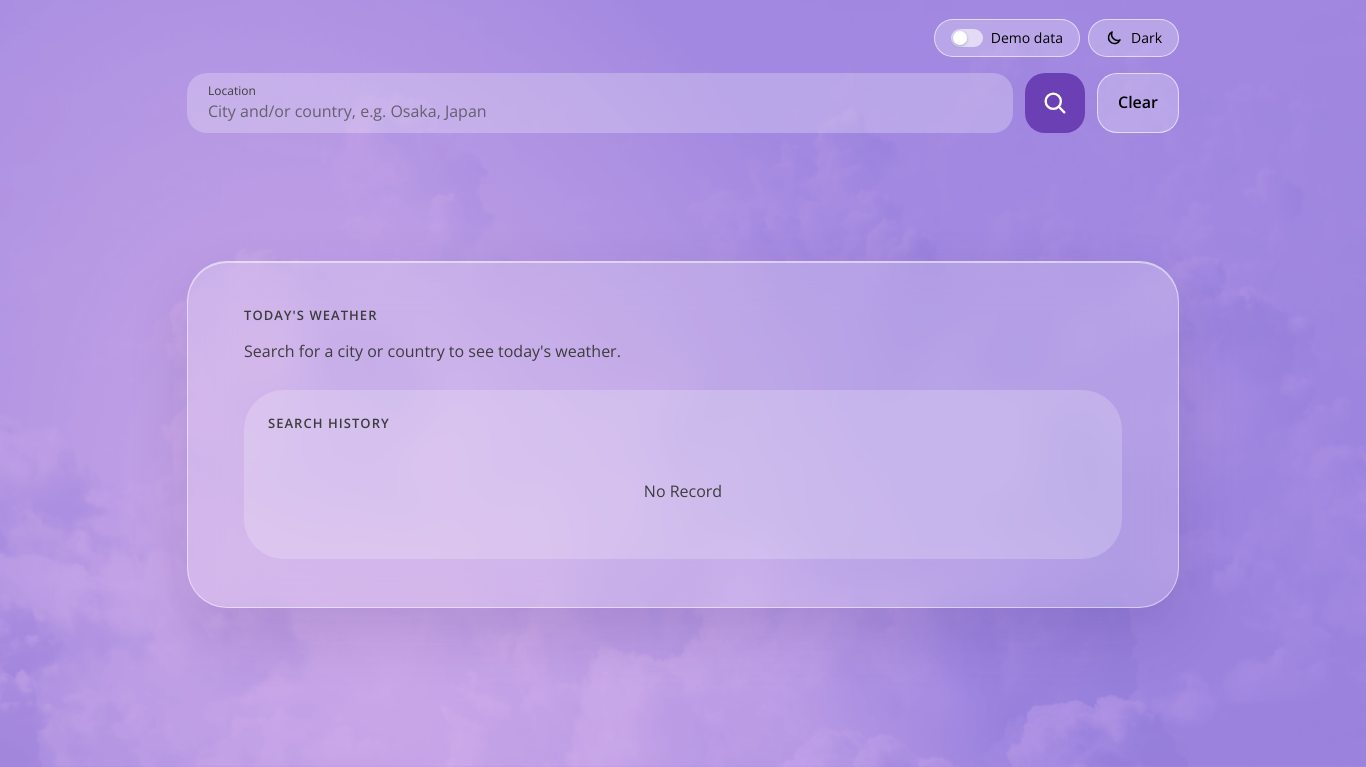
Test: App › searches by city and country, shows the weather and records it in history
This screenshot has width=1366, height=767.
Expected: the text "No Record" is shown, [644,480,722,502]
Step 1. Type "Osaka, Japan" into the dropdown labelled "Location" → (600, 111), box [208,100,992,122]
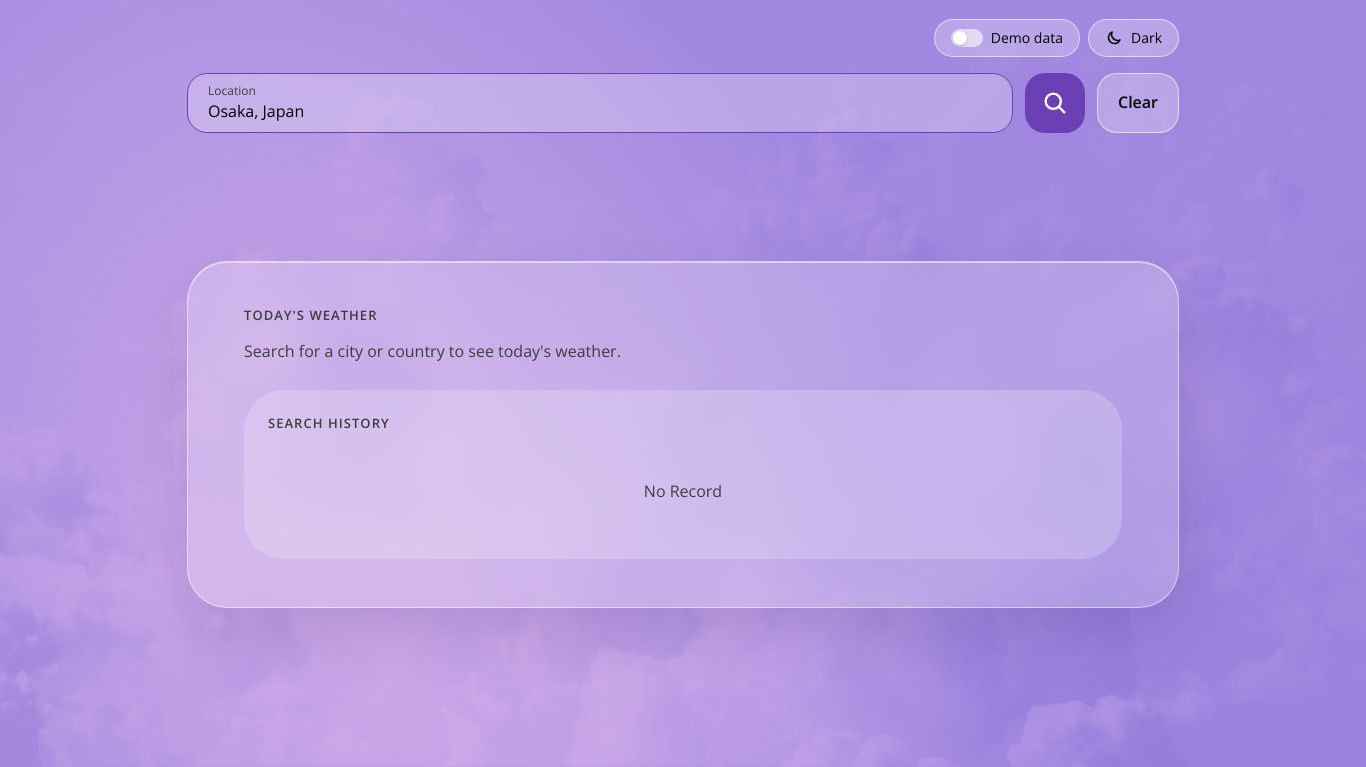
Step 2. Click the button named "Search" → (1055, 103), box [1025,73,1085,133]
(page scrolled)
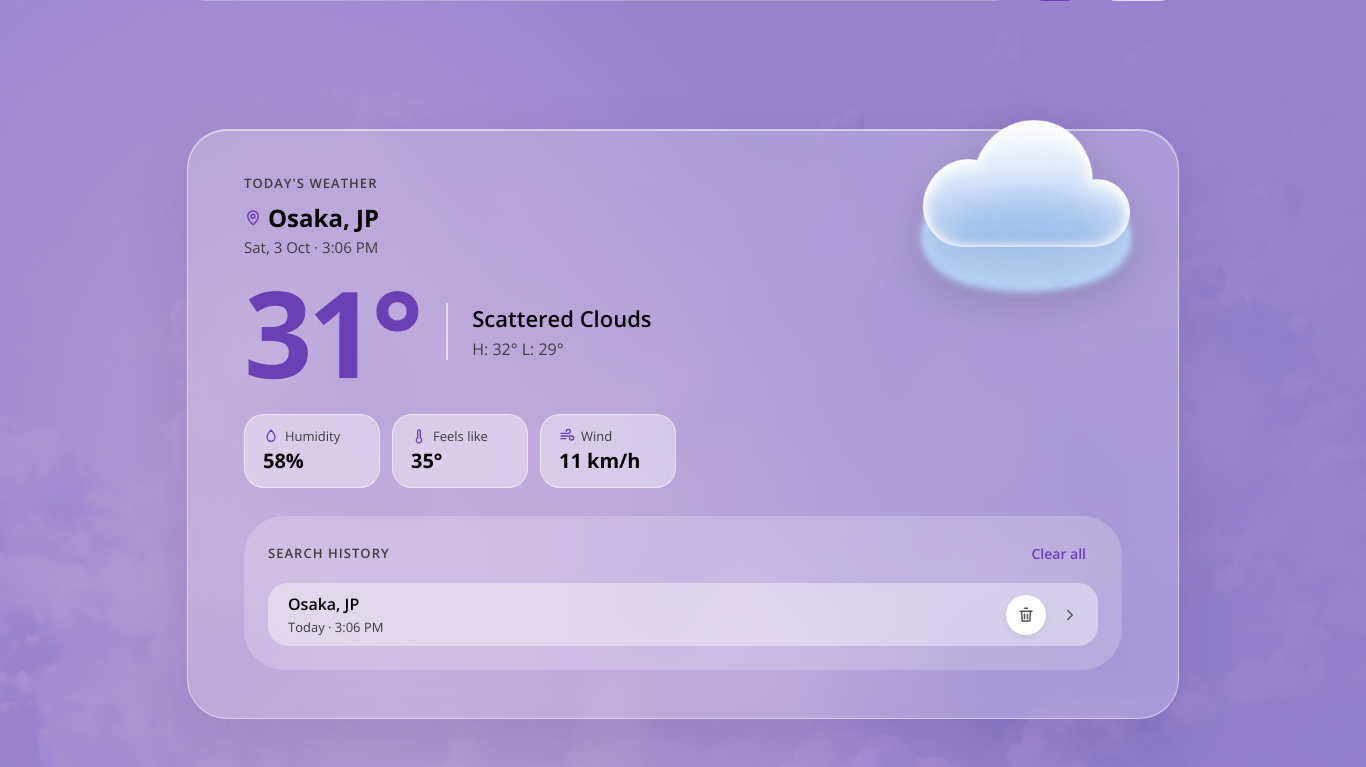
Expected: the text "58%" is shown, [263,447,304,474]
Expected: the number of list items is 1, [268,583,1098,646]
Expected: the list item shows "Osaka, JP", [288,593,359,615]
